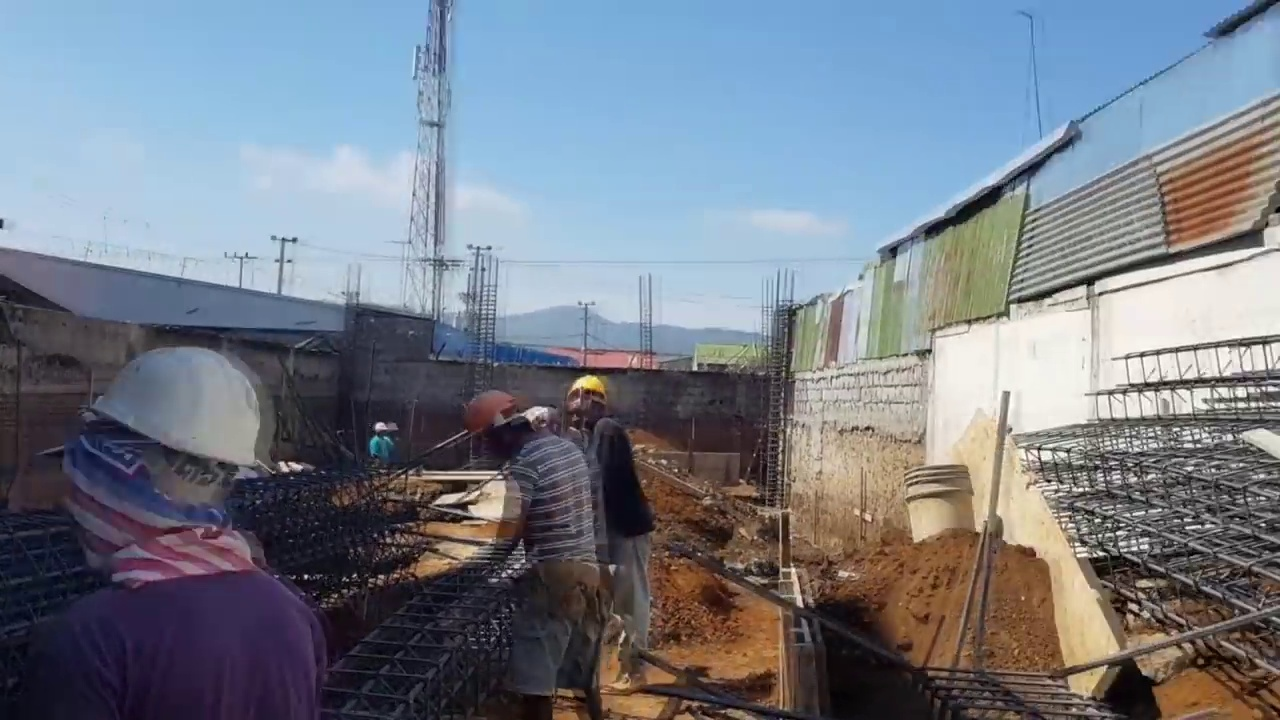helmet: (88, 353, 267, 485), (468, 389, 525, 435), (568, 375, 607, 402), (373, 421, 388, 433)
helmet-on: (62, 341, 272, 578), (467, 389, 533, 461), (567, 380, 610, 431), (373, 421, 388, 439)
person: (33, 324, 332, 720), (480, 382, 599, 691), (567, 371, 661, 669), (367, 421, 392, 467)
